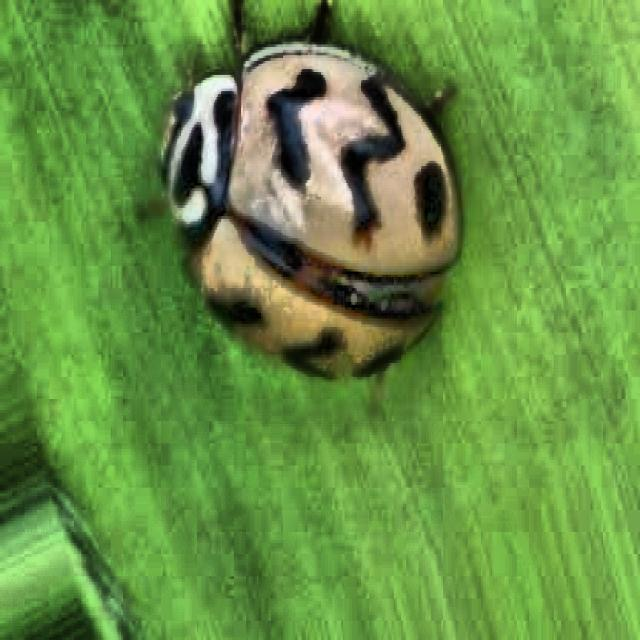Asian-Lady-beetle: (134, 28, 483, 440)
